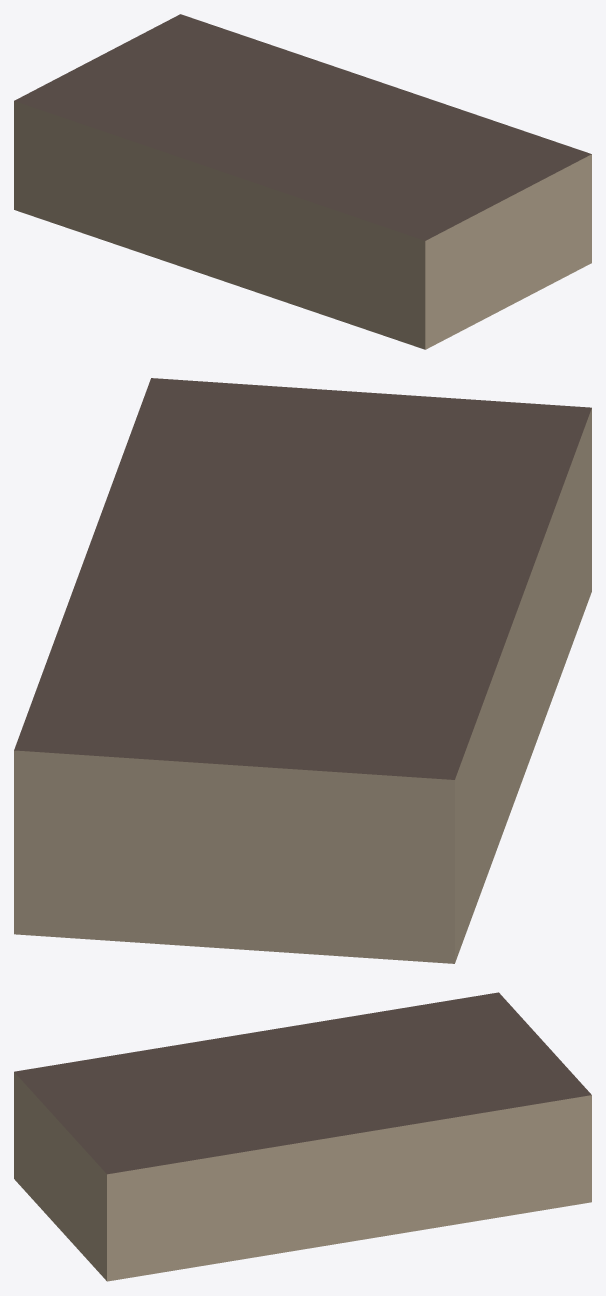
3 views of the same model, one above another, from view 1: azimuth 30°, elevation 25°; view 2: azimuth 150°, elevation 25°; view 3: azimuth 270°, elevation 25° (orthographic). The views are drawn at different scales.
Parts seen in each view (by area): view 1: HP-w1544735746; view 2: HP-w1544735746; view 3: HP-w1544735746.
Part boxes in pixels (x1=…): HP-w1544735746: x1=14, y1=14, x2=591, y2=349; HP-w1544735746: x1=14, y1=378, x2=591, y2=963; HP-w1544735746: x1=14, y1=992, x2=591, y2=1281.
Bounding box in the file's own units: 32.76 × 9 × 43.97.
